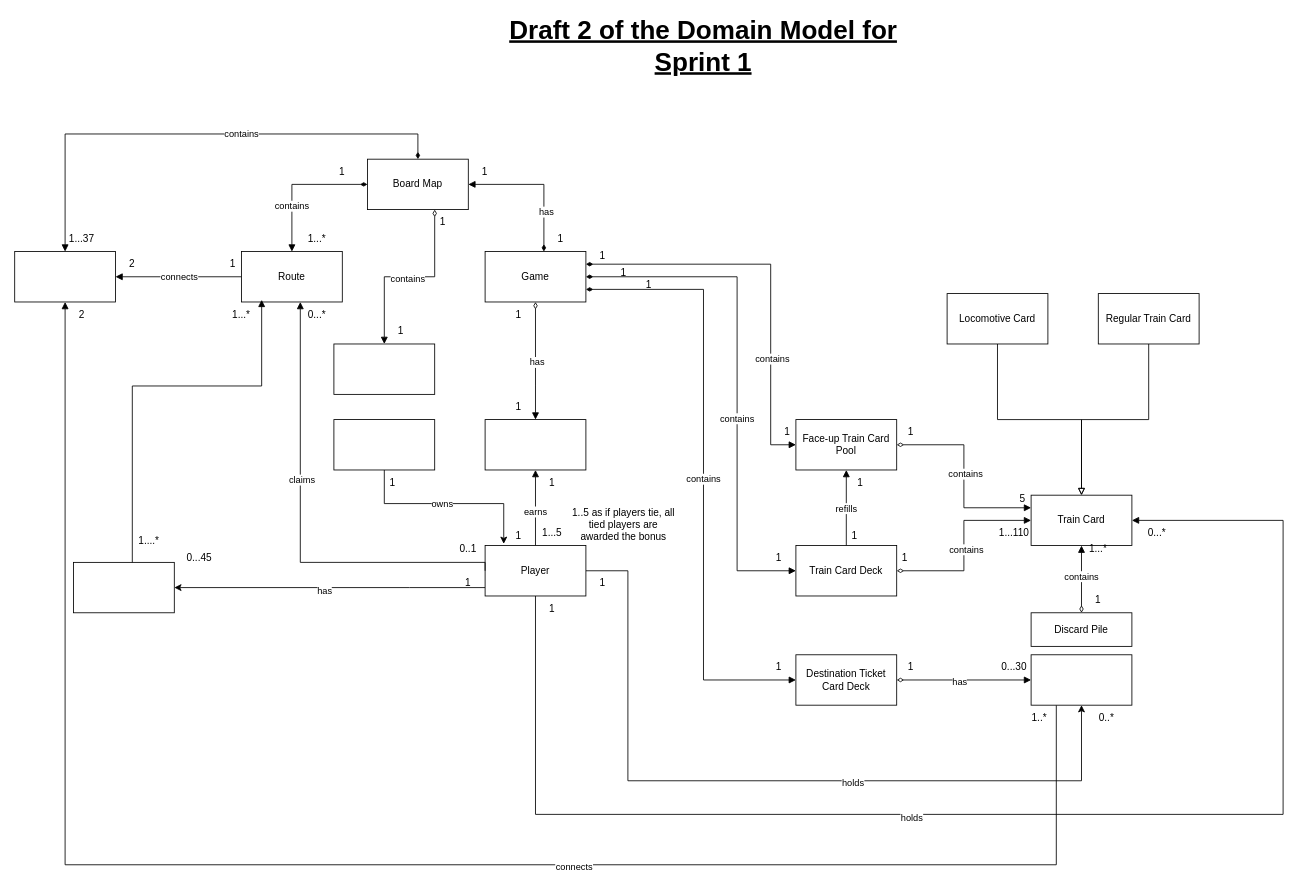
Image size: 1305x886. Some labels were removed from this diagram. Here are the shapes that lost their labels. From the top down, the centre of each, then its label:
At point (65, 276): "City".
At point (384, 368): "Scoring Track".
At point (384, 444): "Scoring Marker".
At point (535, 444): "Longest Continuous Path Bonus".
At point (123, 587): "Colored Train Car".
At point (1081, 679): "Destination Ticket Card".
